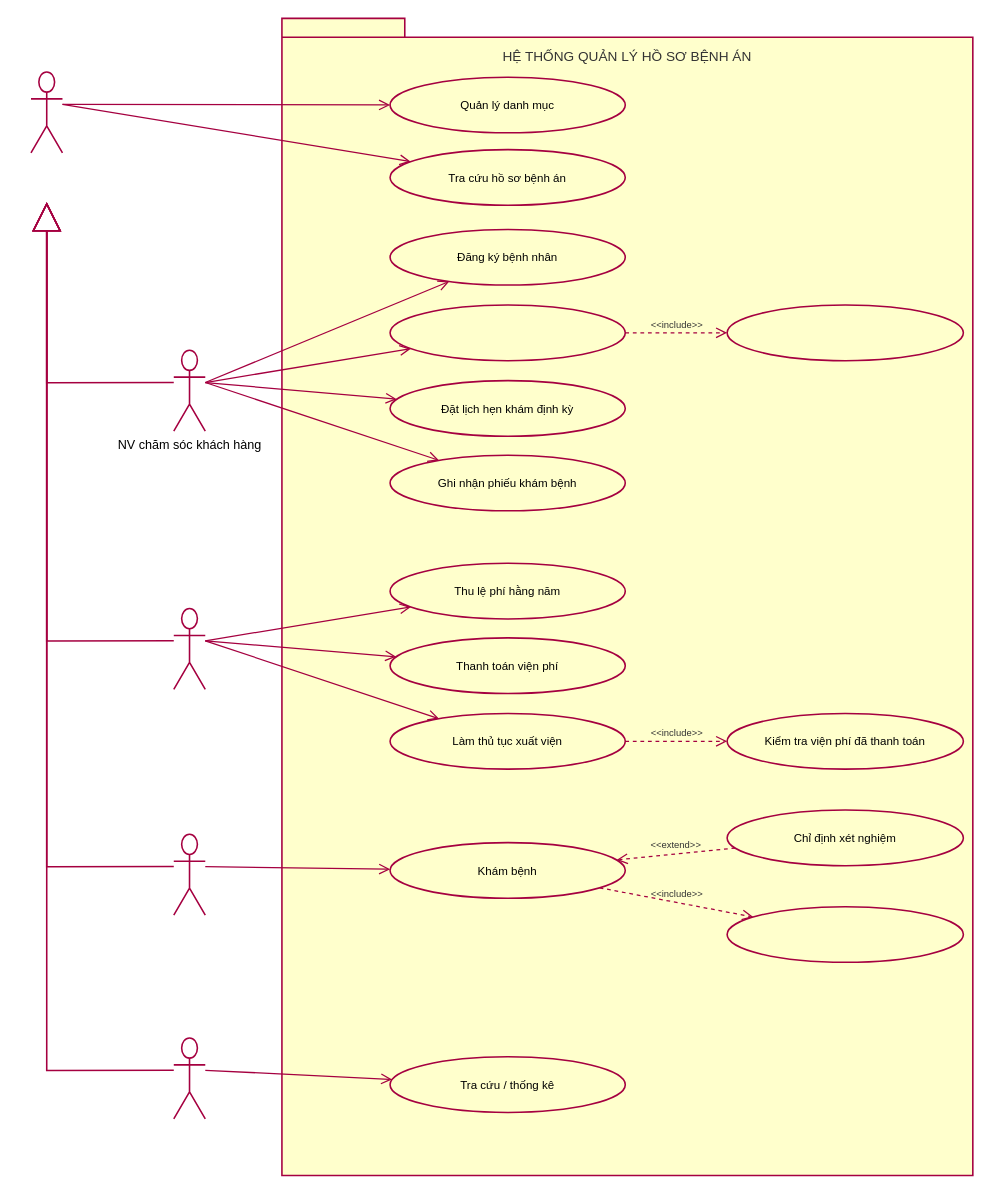
This 992x1195 diagram has some shape labels left out. Here are the shapes that lost their labels. From the top down, the centre of each, then its label:
point (46, 112): Nhân viên
point (507, 332): Lập hồ sơ bệnh án
point (845, 332): Kiểm tra lệ phí hằng năm
point (189, 648): NV thu ngân
point (189, 874): Bác sĩ
point (845, 934): Lập toa thuốc
point (189, 1078): Quản lý
